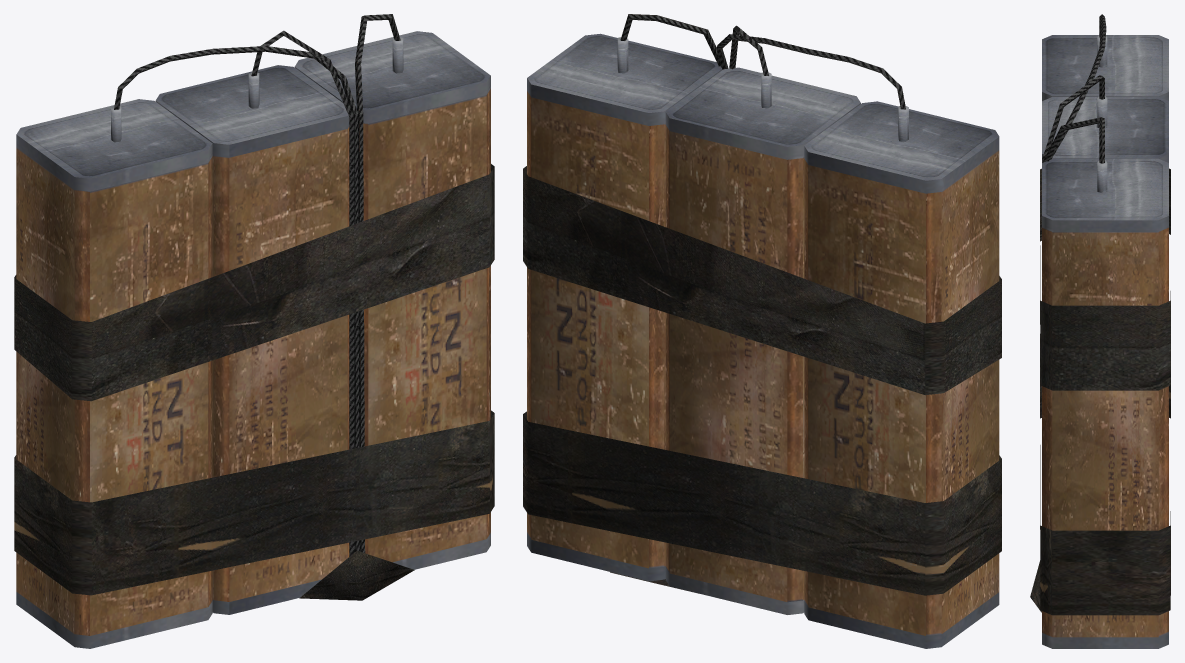
Rendered from weapon_satchel_charge_LOD11.obj.
3 renders of one model, left to right at view 1: azimuth 30°, elevation 25°; view 2: azimuth 150°, elevation 25°; view 3: azimuth 270°, elevation 25°, orthographic. The views are drawn at different scales.
Parts seen in each view (by area): view 1: TomGroup_1, TomGroup_0; view 2: TomGroup_1; view 3: TomGroup_1, TomGroup_0.
Part boxes in pixels (x1,y1,x2,y2): TomGroup_1: [14, 14, 494, 648]; TomGroup_0: [299, 550, 414, 600]; TomGroup_1: [523, 14, 1001, 648]; TomGroup_1: [1040, 14, 1170, 648]; TomGroup_0: [1030, 560, 1041, 612].
Bounding box in the file's own units: 28.96 × 36.81 × 9.16.
Materials: 2 (2 with a texture image).
